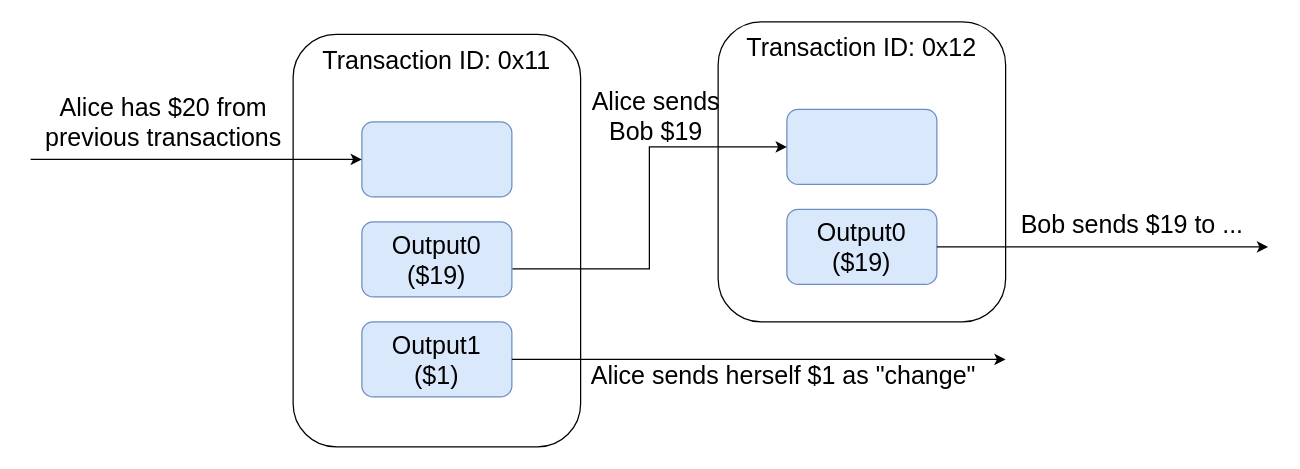
Some shapes in this 1300 by 469 pixel diagram are drawn without their labels. Each missing label, with the centre of its shape:
"Input ($19)" goes at pixel 861 146.
"Input ($20)" goes at pixel 436 159.
